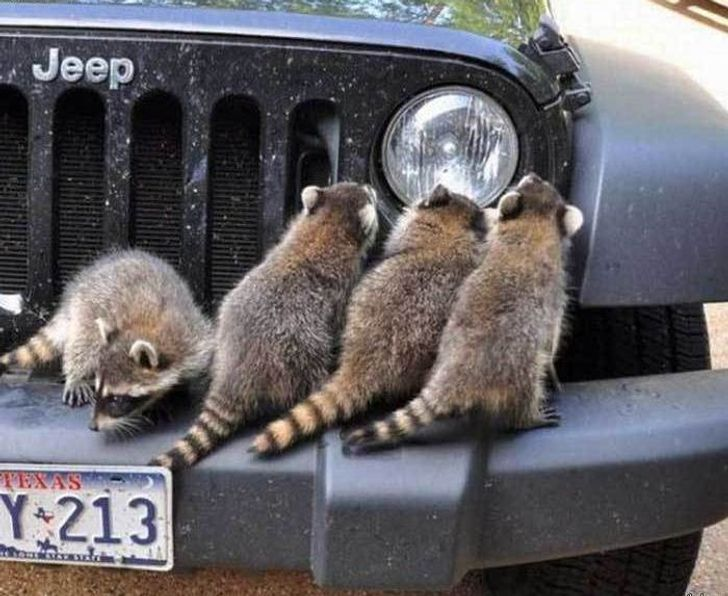raccoon: (195, 173, 377, 415), (449, 166, 580, 437), (357, 159, 484, 423), (36, 251, 205, 434)
